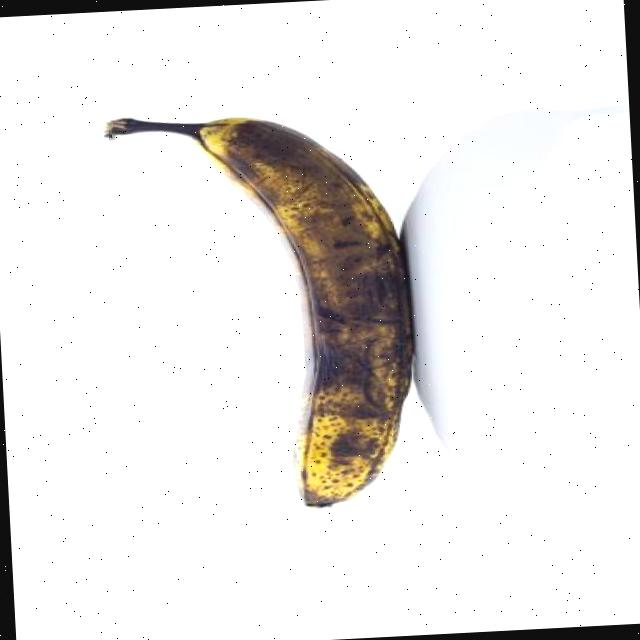overripe: (100, 103, 433, 522)
